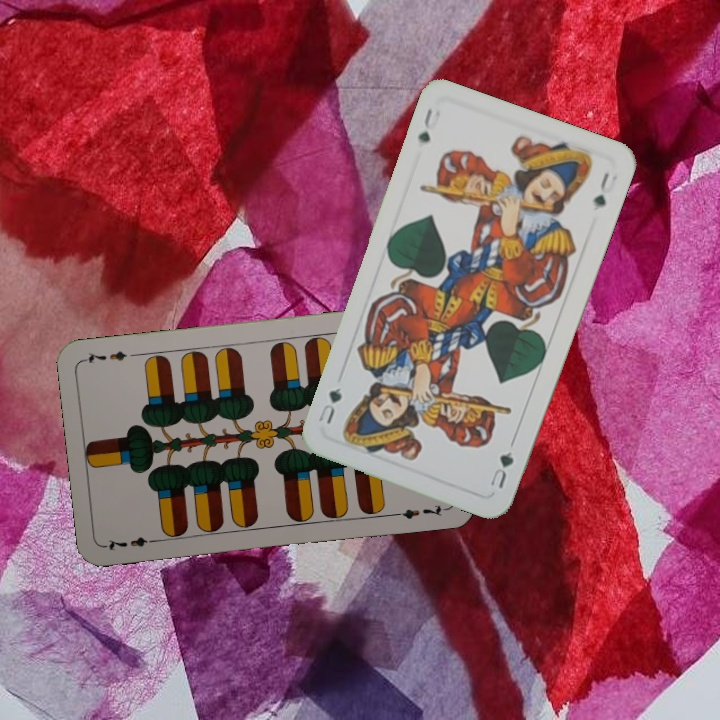E7: (102, 533, 161, 552)
GU: (486, 446, 517, 491), (413, 104, 443, 145)
